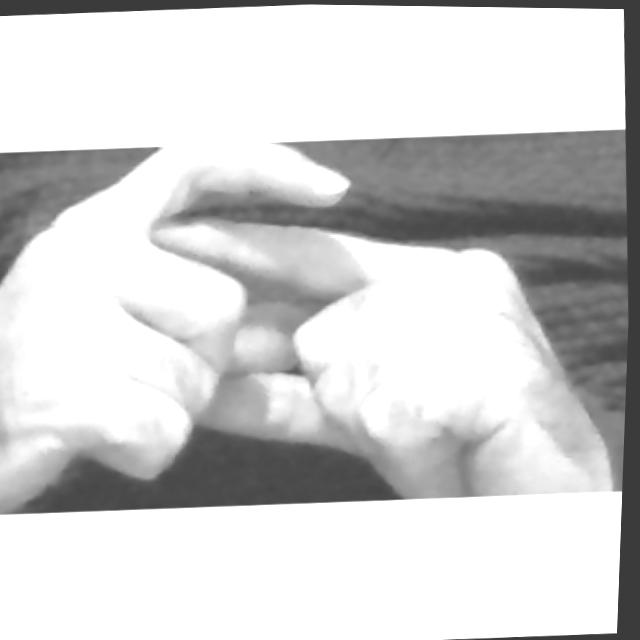G-: (0, 118, 624, 524)
